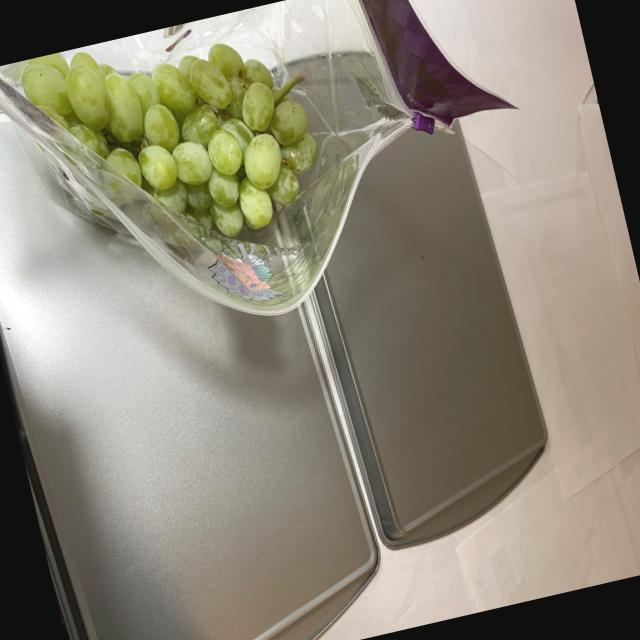grapes: (10, 0, 348, 281)
